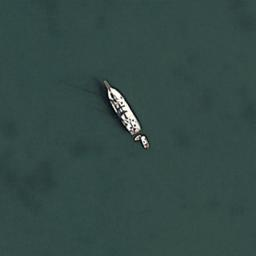boat: (102, 77, 142, 133), (140, 137, 150, 150)
